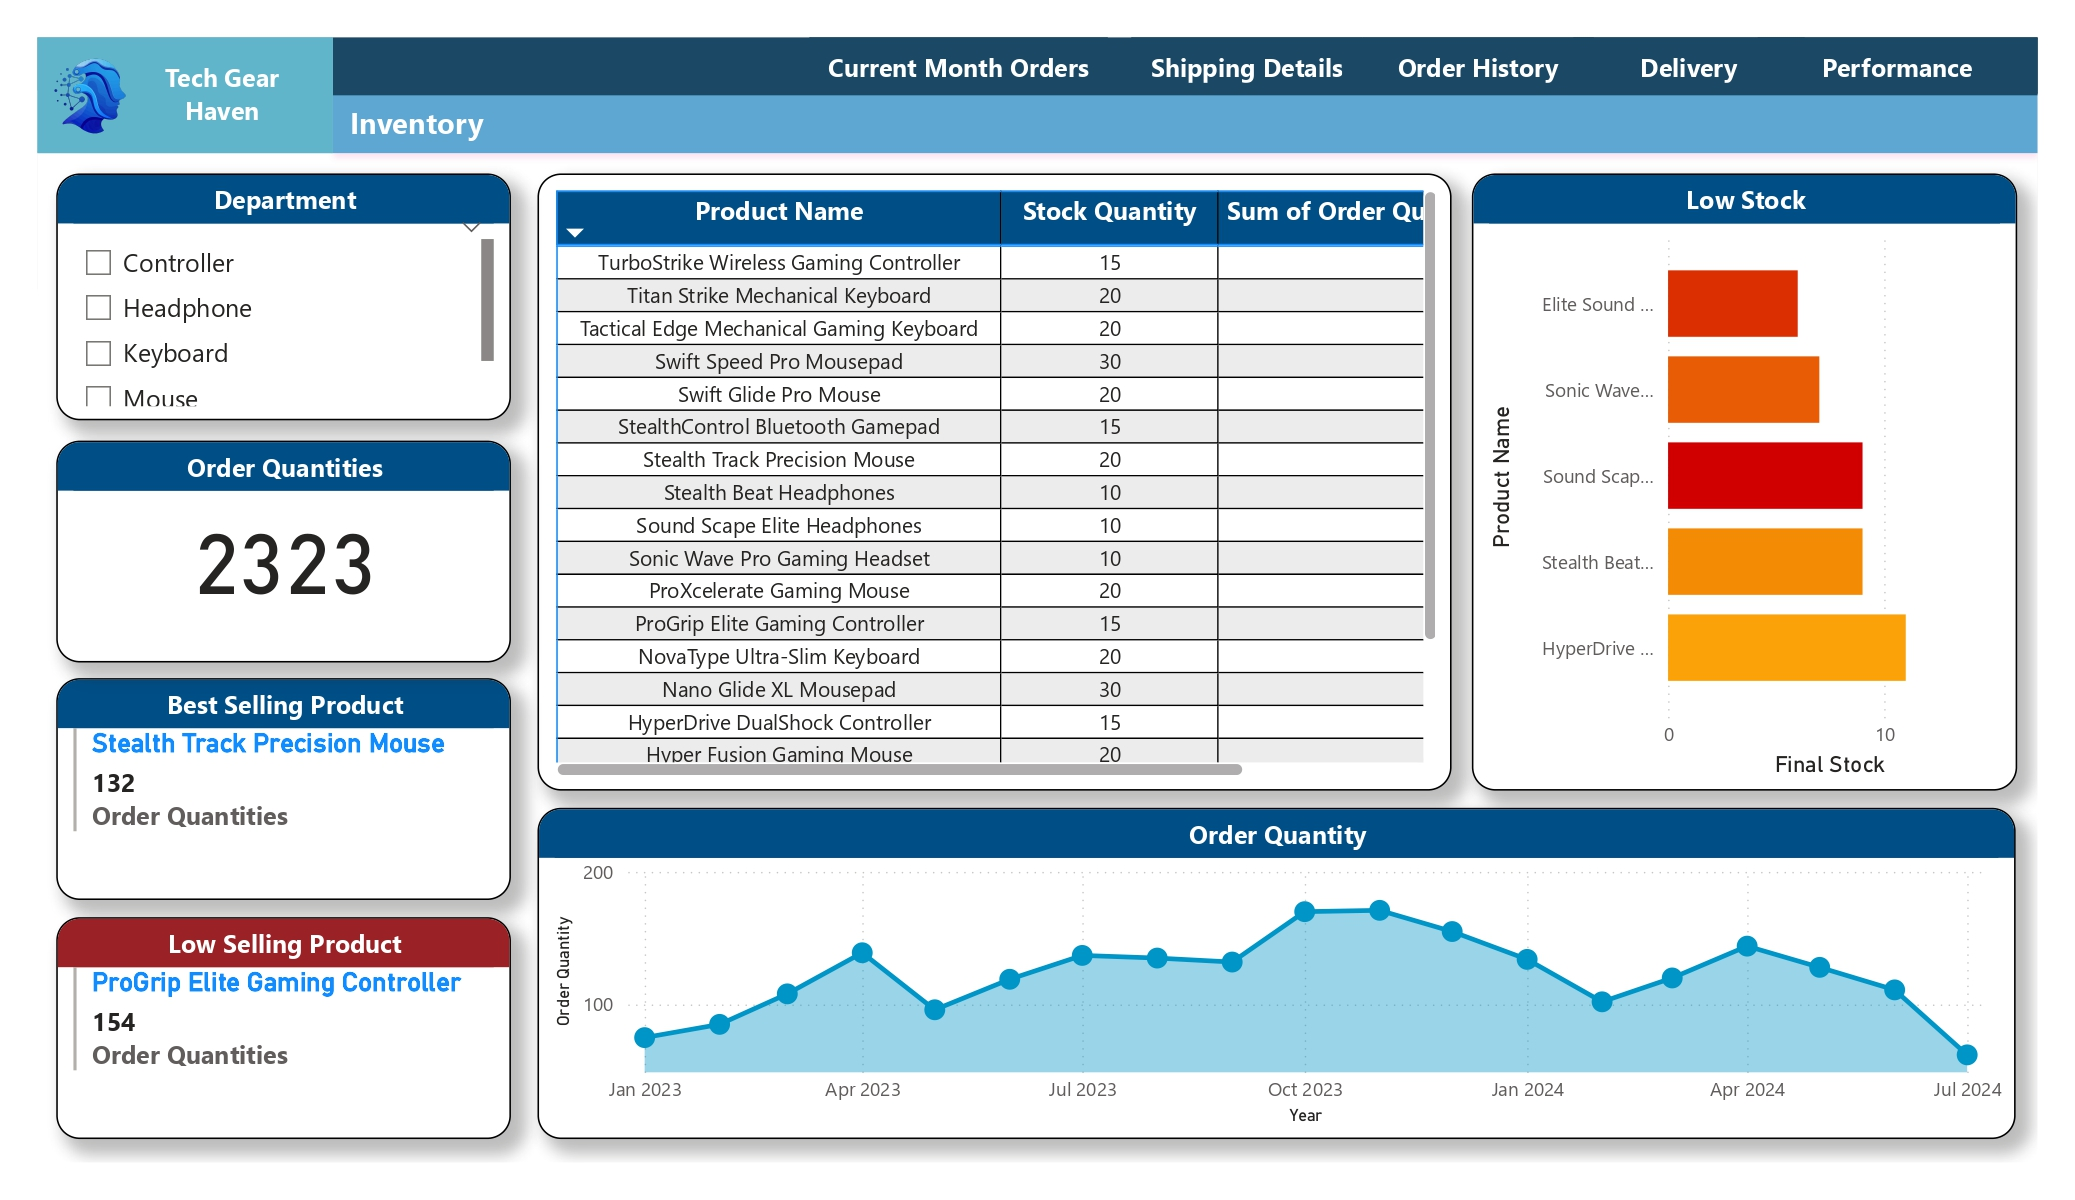

Layout of this report page (visuals, bound fields, positions):
{"tool":"powerbi","page":{"name":"Inventory","canvas":[1280,720],"ordinal":4},"visuals":[{"type":"shape","title":"Horizontal Shape","box":[188.9,36.2,1090.8,37.5],"z":0},{"type":"shape","title":"Horizontal Shape","box":[189.1,0.2,1090.4,36.9],"z":1000},{"type":"shape","box":[0,0,188.9,74.4],"z":2000},{"type":"tableEx","fields":{"Values":["Products.Product Name","Sum(Products.Stock (last 30 days))","Sum(Current Month Orders.Order Quantity)","Current Month Orders.Final Stock"]},"box":[320,86.7,585,395],"z":3000},{"type":"clusteredBarChart","title":"Low Stock","fields":{"Category":["Products.Product Name"],"Y":["Current Month Orders.Final Stock"]},"box":[918.3,86.7,348.3,395],"z":4000},{"type":"slicer","title":"Department","fields":{"Values":["Products.Department"]},"box":[11.7,86.7,291.7,158.3],"z":5000},{"type":"multiRowCard","title":"Best Selling Product","fields":{"Values":["Min(Products.Product Name)","Sum(Orders.Order Quantity)"]},"box":[11.7,410,291.7,141.7],"z":6000},{"type":"multiRowCard","title":"Low Selling Product","fields":{"Values":["Min(Products.Product Name)","Sum(Orders.Order Quantity)"]},"box":[11.7,563.3,291.7,141.7],"z":7000},{"type":"card","title":"Order Quantities","fields":{"Values":["Sum(Orders.Order Quantity)"]},"box":[11.7,258.3,291.7,141.7],"z":8000},{"type":"textbox","title":"Report Title","box":[195.2,37.2,438.7,36.5],"z":9000},{"type":"textbox","box":[56.9,10.4,121.6,53.1],"z":10000},{"type":"image","box":[0,5.2,67.3,64.7],"z":11000},{"type":"pageNavigator","box":[847.6,0,148.8,36.2],"z":12000},{"type":"pageNavigator","box":[494.3,0,190.2,36.2],"z":13000},{"type":"pageNavigator","box":[700,0,147.5,36.2],"z":14000},{"type":"pageNavigator","box":[983.4,0,147.5,36.2],"z":15000},{"type":"pageNavigator","box":[1101.2,0,178.6,36.2],"z":16000},{"type":"areaChart","title":"Order Quantity","fields":{"Category":["Orders.Order Date.Variation.Date Hierarchy.Year","Orders.Order Date.Variation.Date Hierarchy.Month"],"Y":["Sum(Orders.Order Quantity)"]},"box":[319.6,493.5,946.8,211.1],"z":17000}]}

Visuals, with their boxes on the page's 1280x720 design canvas (x1, y1, x2, y2). These are canvas units, not pixel positions in the 2075x1200 screenshot, which may show the page scaled, cropped or inside an application window:
"Horizontal Shape" shape: bbox(189, 36, 1280, 74)
"Horizontal Shape" shape: bbox(189, 0, 1280, 37)
shape: bbox(0, 0, 189, 74)
tableEx - Products.Product Name x Sum(Products.Stock (last 30 days)): bbox(320, 87, 905, 482)
"Low Stock" clusteredBarChart: bbox(918, 87, 1267, 482)
"Department" slicer: bbox(12, 87, 303, 245)
"Best Selling Product" multiRowCard: bbox(12, 410, 303, 552)
"Low Selling Product" multiRowCard: bbox(12, 563, 303, 705)
"Order Quantities" card: bbox(12, 258, 303, 400)
"Report Title" textbox: bbox(195, 37, 634, 74)
textbox: bbox(57, 10, 178, 64)
image: bbox(0, 5, 67, 70)
pageNavigator: bbox(848, 0, 996, 36)
pageNavigator: bbox(494, 0, 684, 36)
pageNavigator: bbox(700, 0, 848, 36)
pageNavigator: bbox(983, 0, 1131, 36)
pageNavigator: bbox(1101, 0, 1280, 36)
"Order Quantity" areaChart: bbox(320, 494, 1266, 705)
